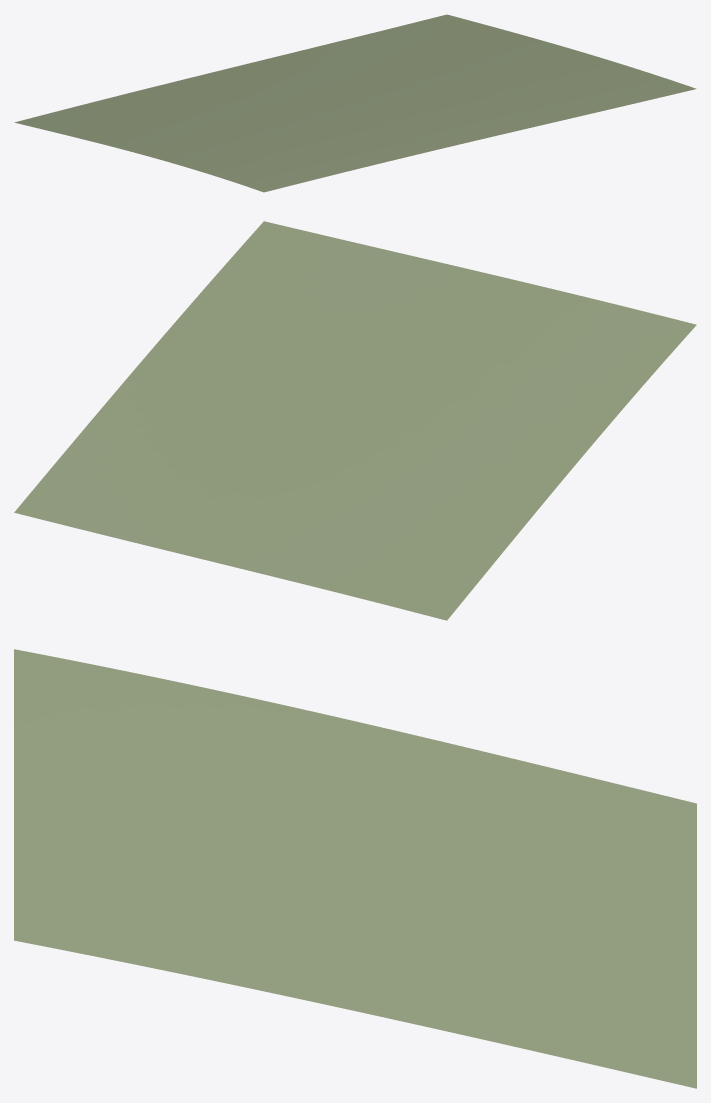
Rendered from expanse-27-5.glb.
3 renders of one model, top to bottom at view 1: azimuth 30°, elevation 25°; view 2: azimuth 150°, elevation 25°; view 3: azimuth 270°, elevation 25°, orthographic. The views are drawn at different scales.
Visible parts, largest first — view 1: expanse-27-5; view 2: expanse-27-5; view 3: expanse-27-5.
Part boxes in pixels (box(x1,y1,x2,y2)): expanse-27-5: box(14, 14, 696, 192); expanse-27-5: box(14, 221, 696, 620); expanse-27-5: box(14, 649, 696, 1088).
Bounding box in the file's own units: 256 × 64.2 × 256.
